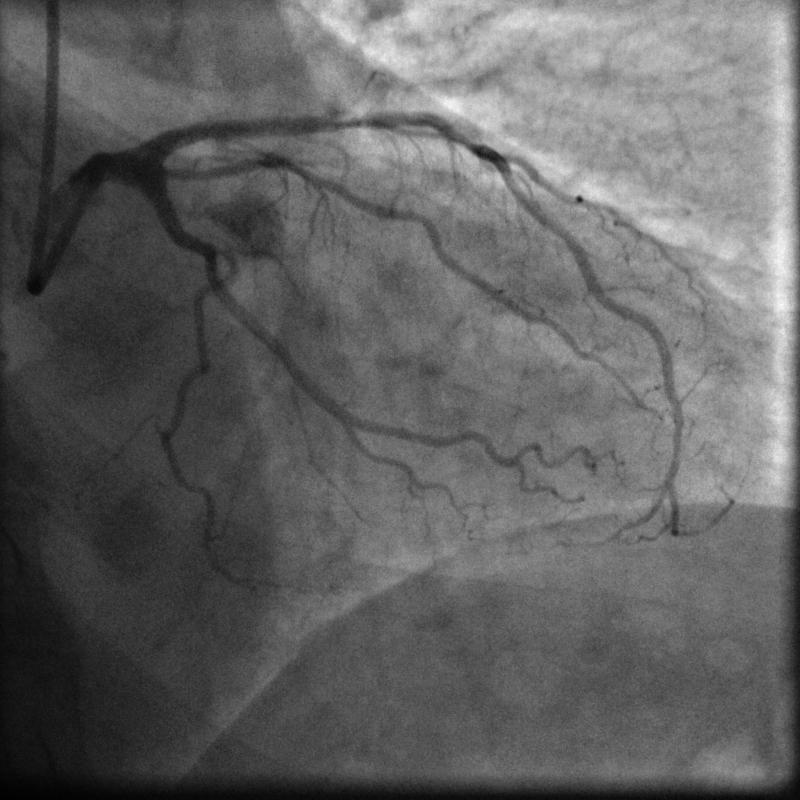Stenosis: (325, 112, 385, 132)
